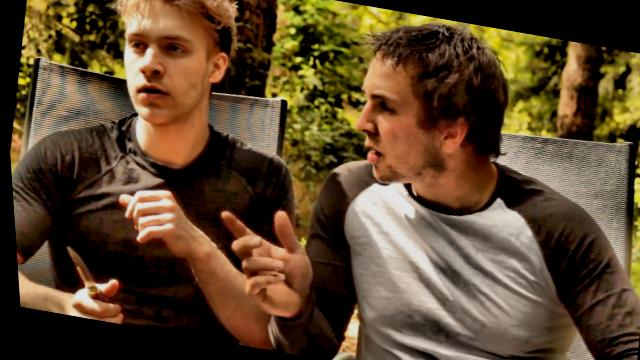knife: (40, 229, 136, 324)
